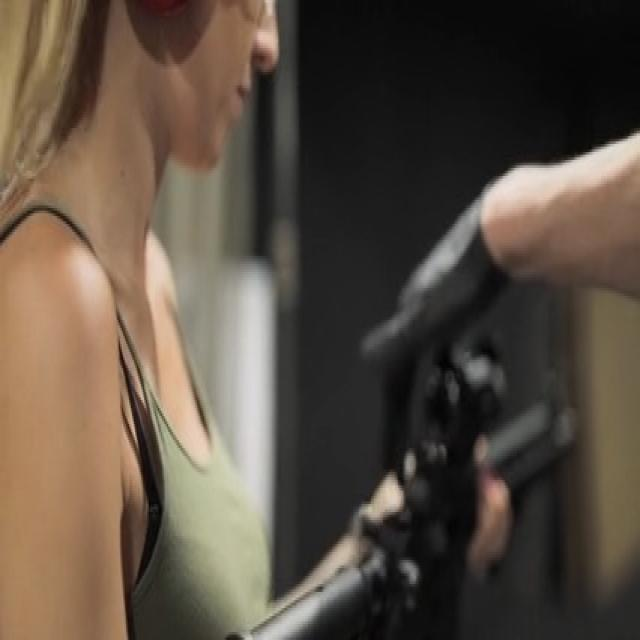Gun_Holder: (225, 326, 632, 640)
Person: (1, 0, 296, 633)
